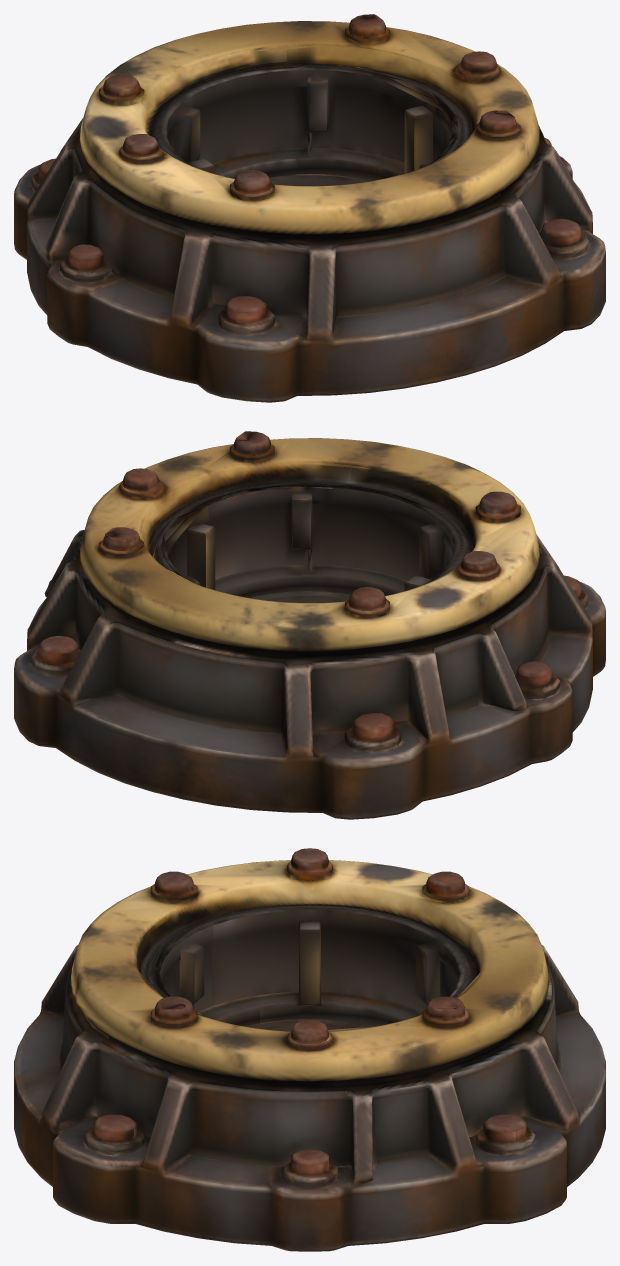
The model's file is hole_final.glb.
3 renders of one model, top to bottom at view 1: azimuth 30°, elevation 25°; view 2: azimuth 150°, elevation 25°; view 3: azimuth 270°, elevation 25°, orthographic. The views are drawn at different scales.
Visible parts, largest first — view 1: mesh_rep_0_ori_repair; view 2: mesh_rep_0_ori_repair; view 3: mesh_rep_0_ori_repair.
Boxes of the visible parts, left/top/right/bottom form: mesh_rep_0_ori_repair: left=14, top=14, right=605, bottom=402; mesh_rep_0_ori_repair: left=14, top=431, right=605, bottom=819; mesh_rep_0_ori_repair: left=14, top=848, right=605, bottom=1251.
Bounding box in the file's own units: 1.1 × 0.3684 × 1.07.
1 material, 1 textured.
